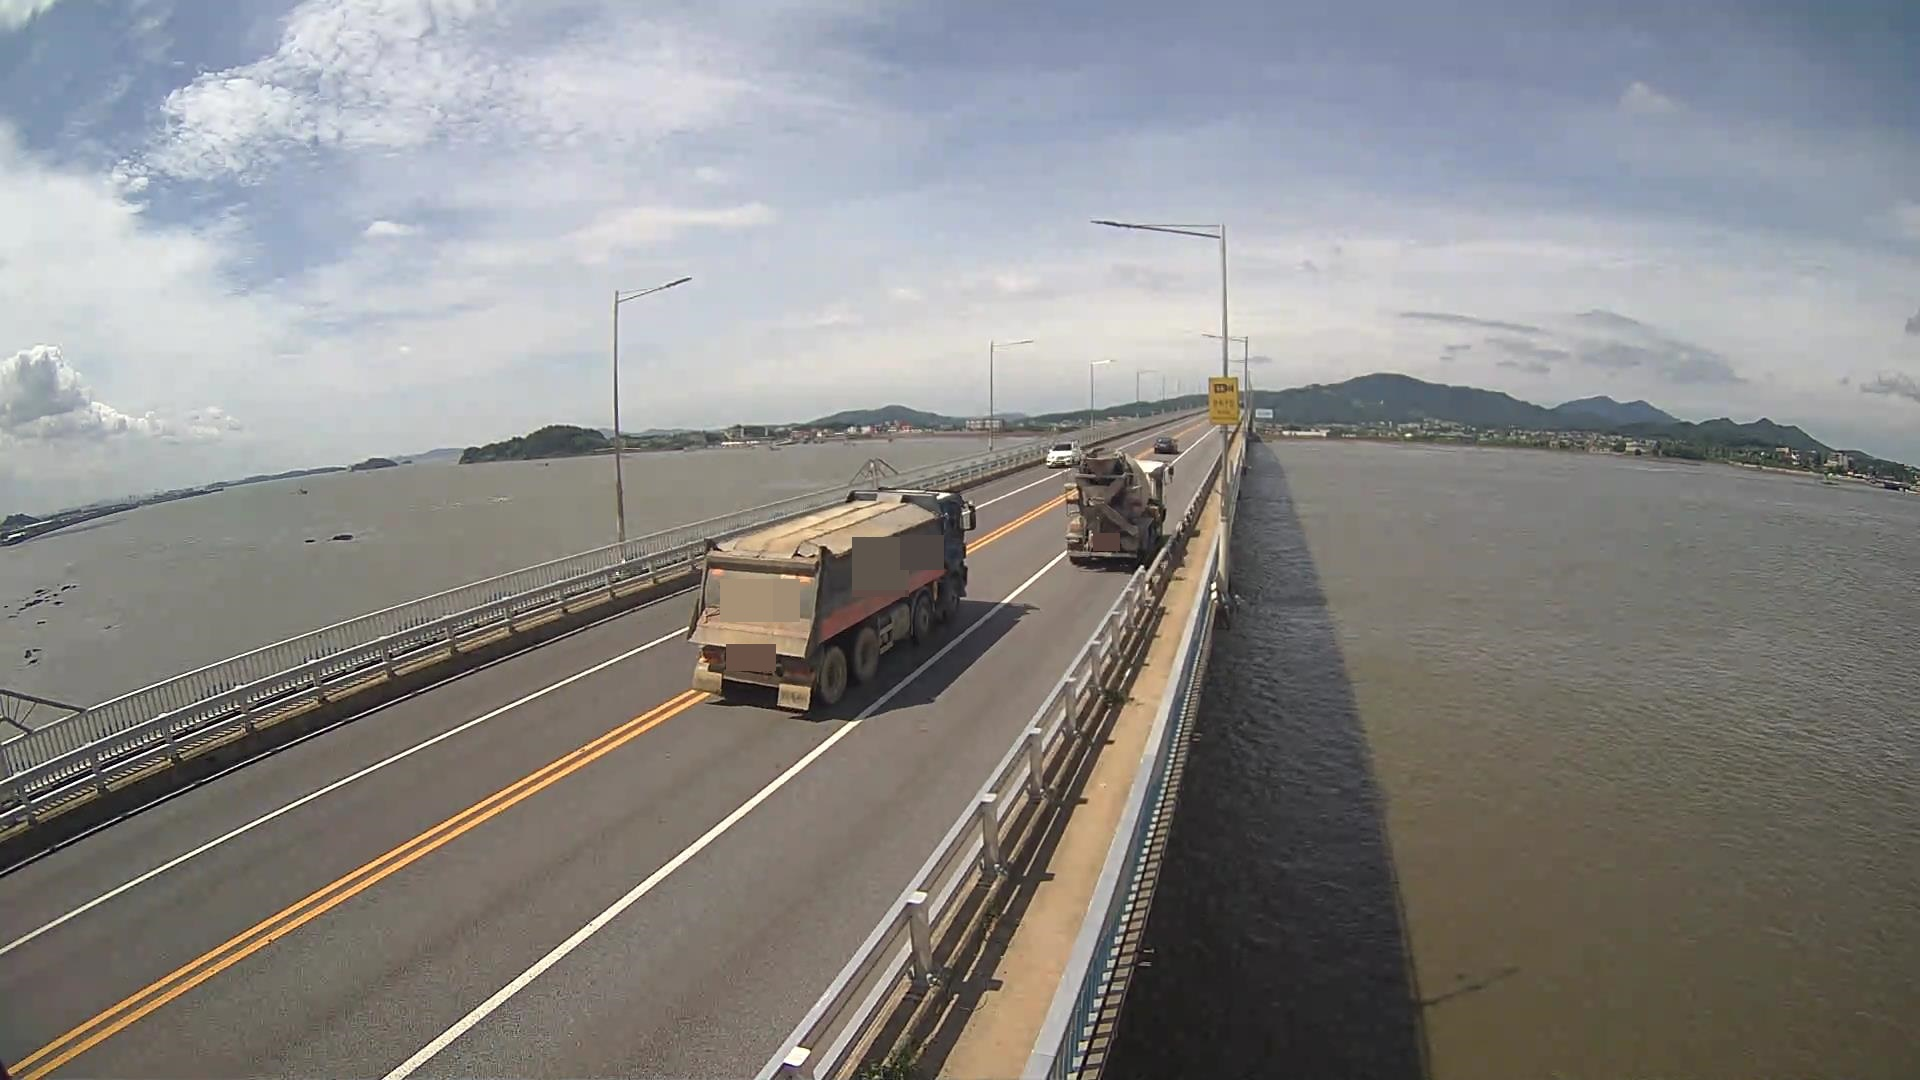정상차량: (686, 487, 977, 711)
